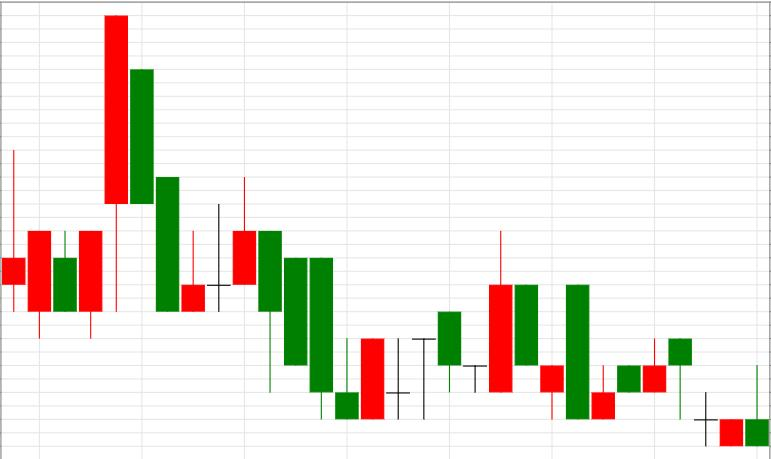bullish_engulfing_rise: (259, 230, 384, 420)
hanging_man_fall: (591, 339, 693, 419)
inverse_hammer_rise: (258, 231, 359, 419)
